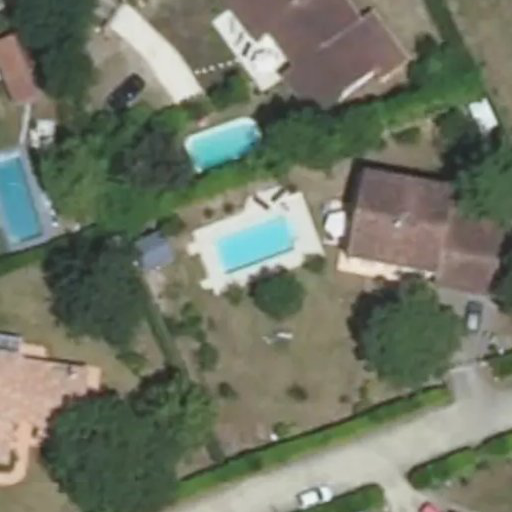pool: (210, 237, 306, 242)
